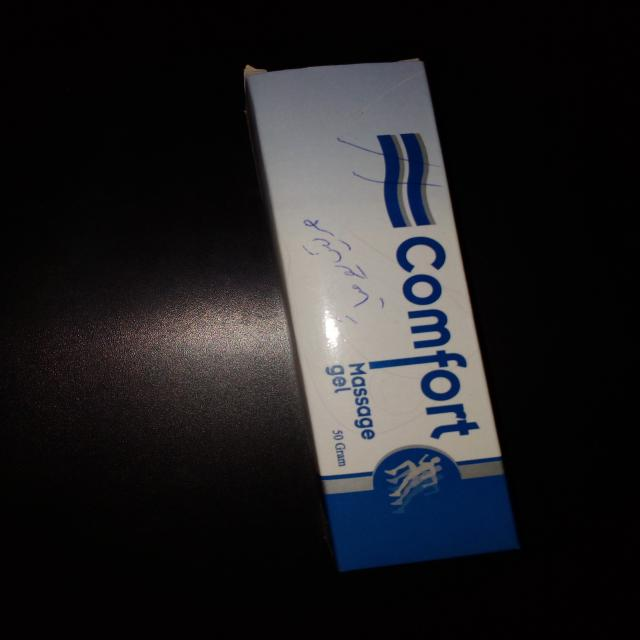Medicine: (243, 53, 521, 573)
